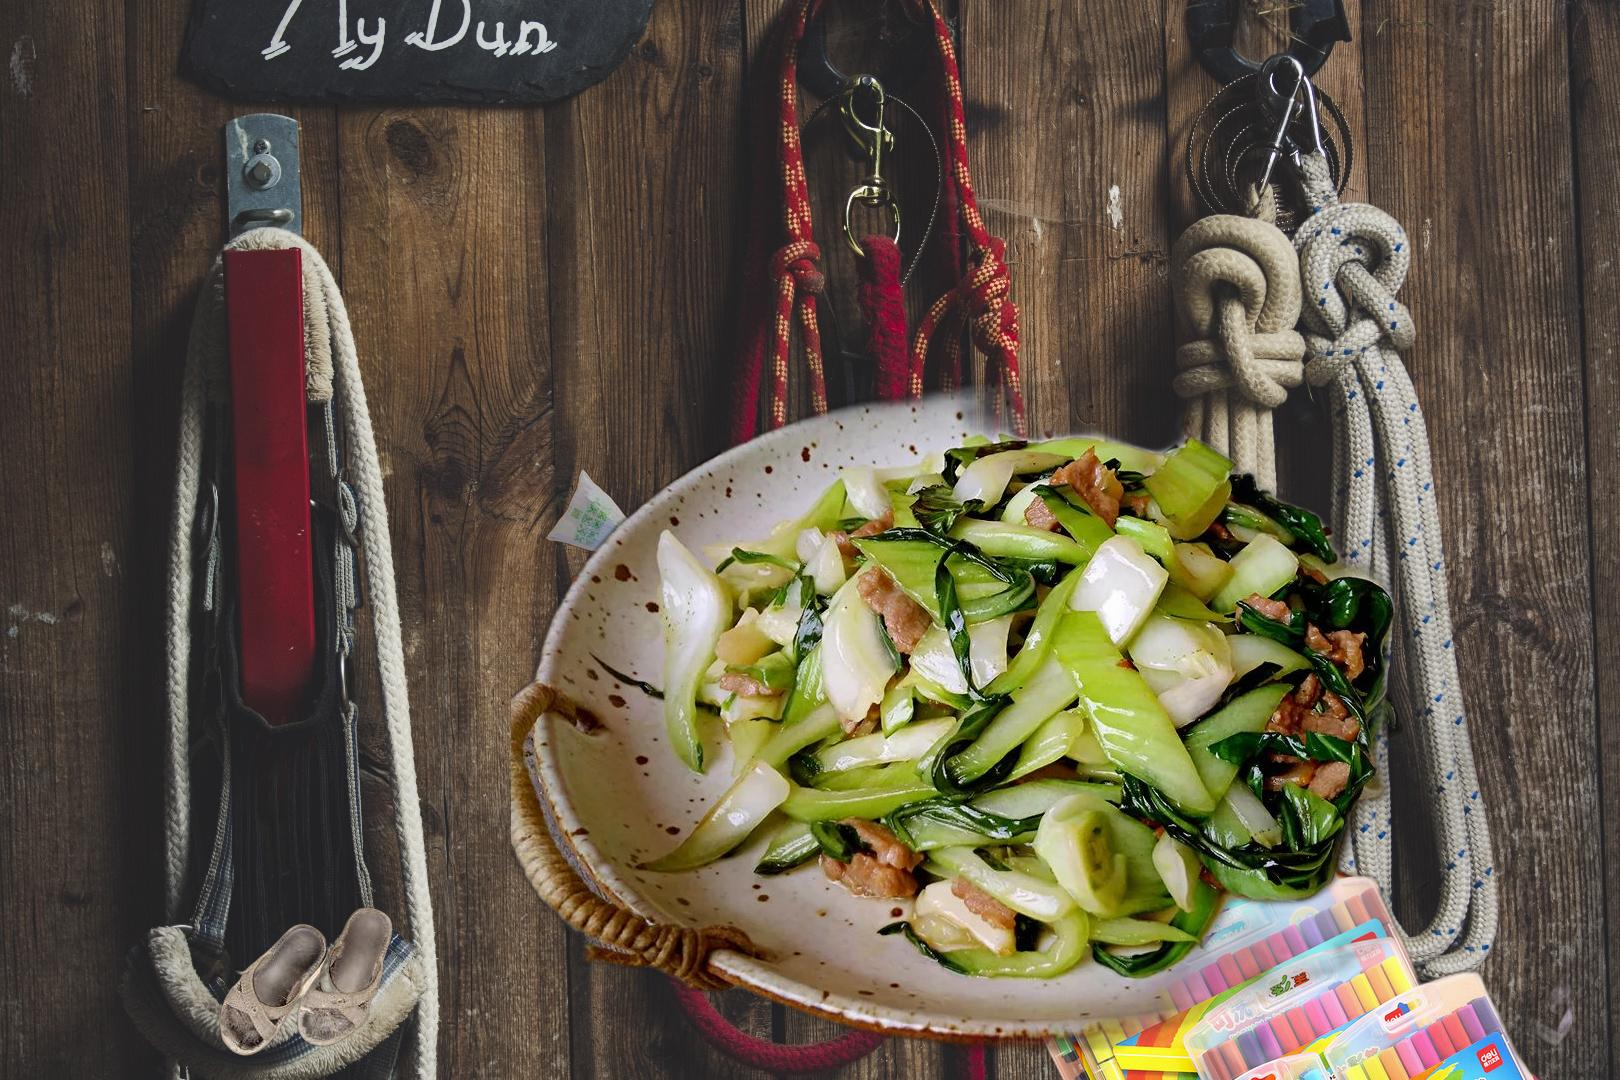biological: (511, 340, 1591, 1062)
penholder: (972, 763, 1572, 1080)
plastic-bag: (528, 468, 640, 741)
shoes: (216, 906, 397, 1060)
